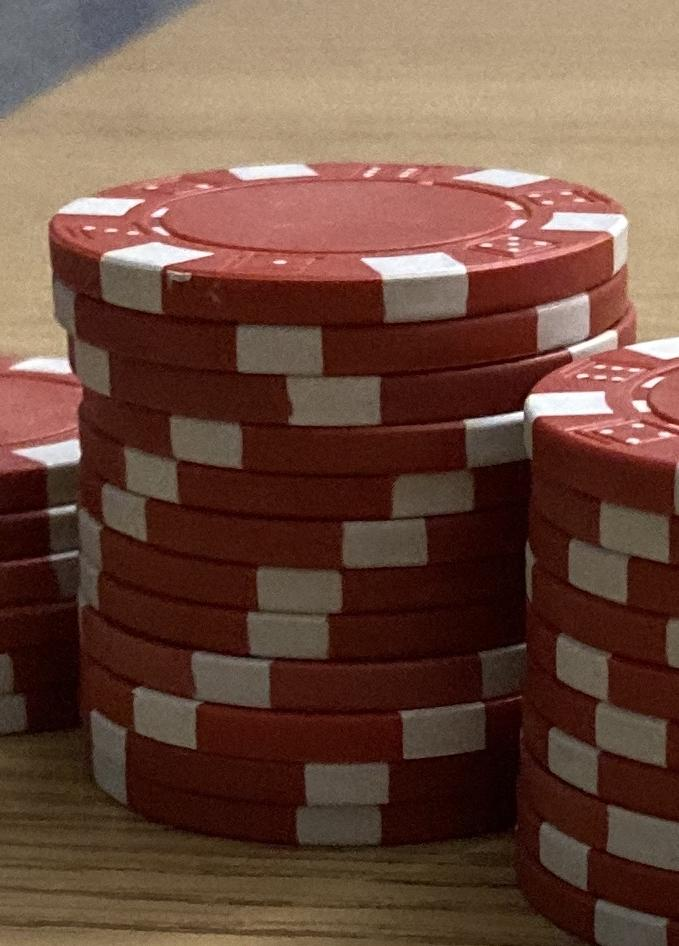Chip: (1, 1, 679, 946)
